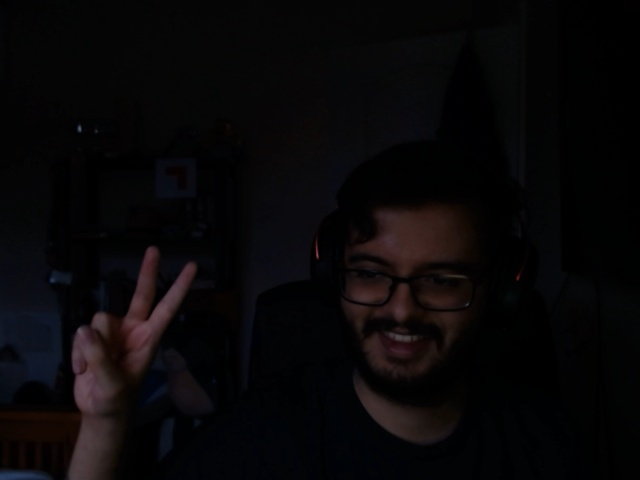Peace: (45, 222, 223, 430)
